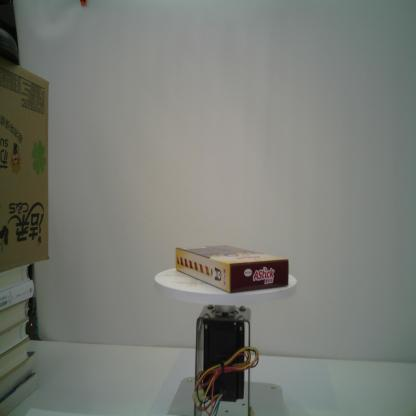Dessert: (174, 242, 290, 296)
